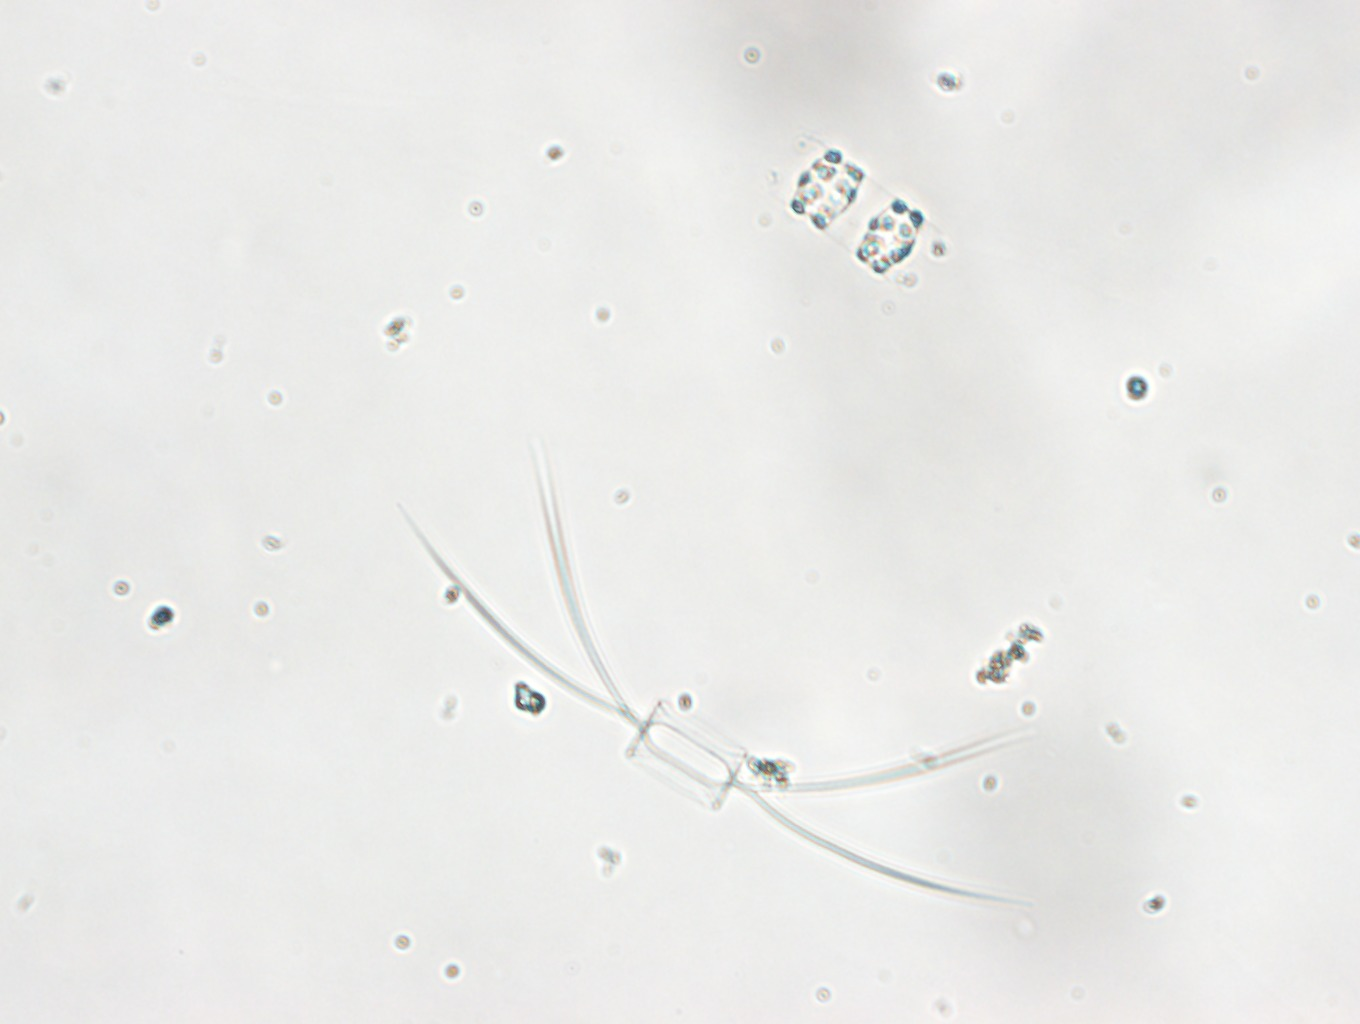chaetoceros: (400, 444, 1028, 904)
skeletonema: (770, 139, 950, 291)
